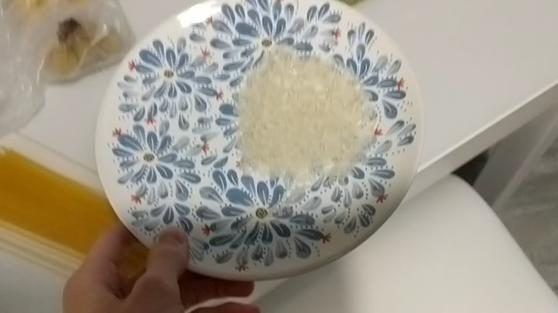rice: (231, 34, 376, 191)
